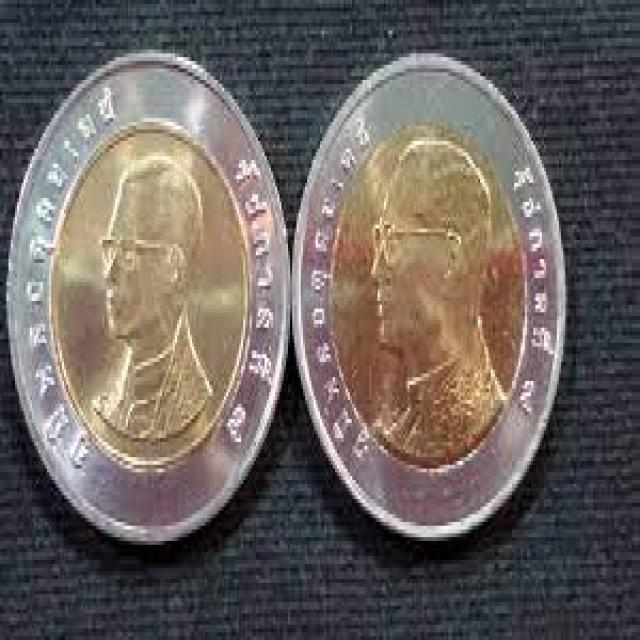10 Bath: (5, 48, 293, 555), (296, 48, 573, 563)
